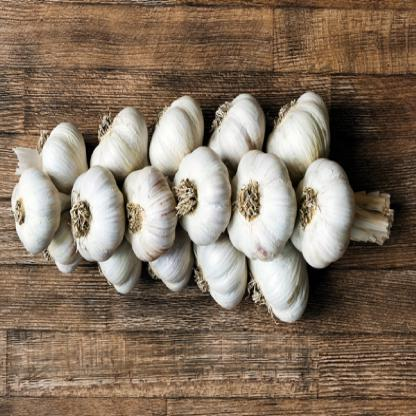garlic: (221, 152, 296, 252), (164, 149, 231, 248), (292, 162, 351, 274), (58, 172, 129, 257), (6, 172, 64, 260), (122, 171, 178, 257), (34, 113, 88, 189), (150, 99, 204, 174), (190, 248, 256, 309), (92, 110, 151, 178), (272, 104, 332, 168), (210, 102, 266, 166), (254, 250, 307, 317), (148, 246, 198, 292), (102, 253, 154, 297)
